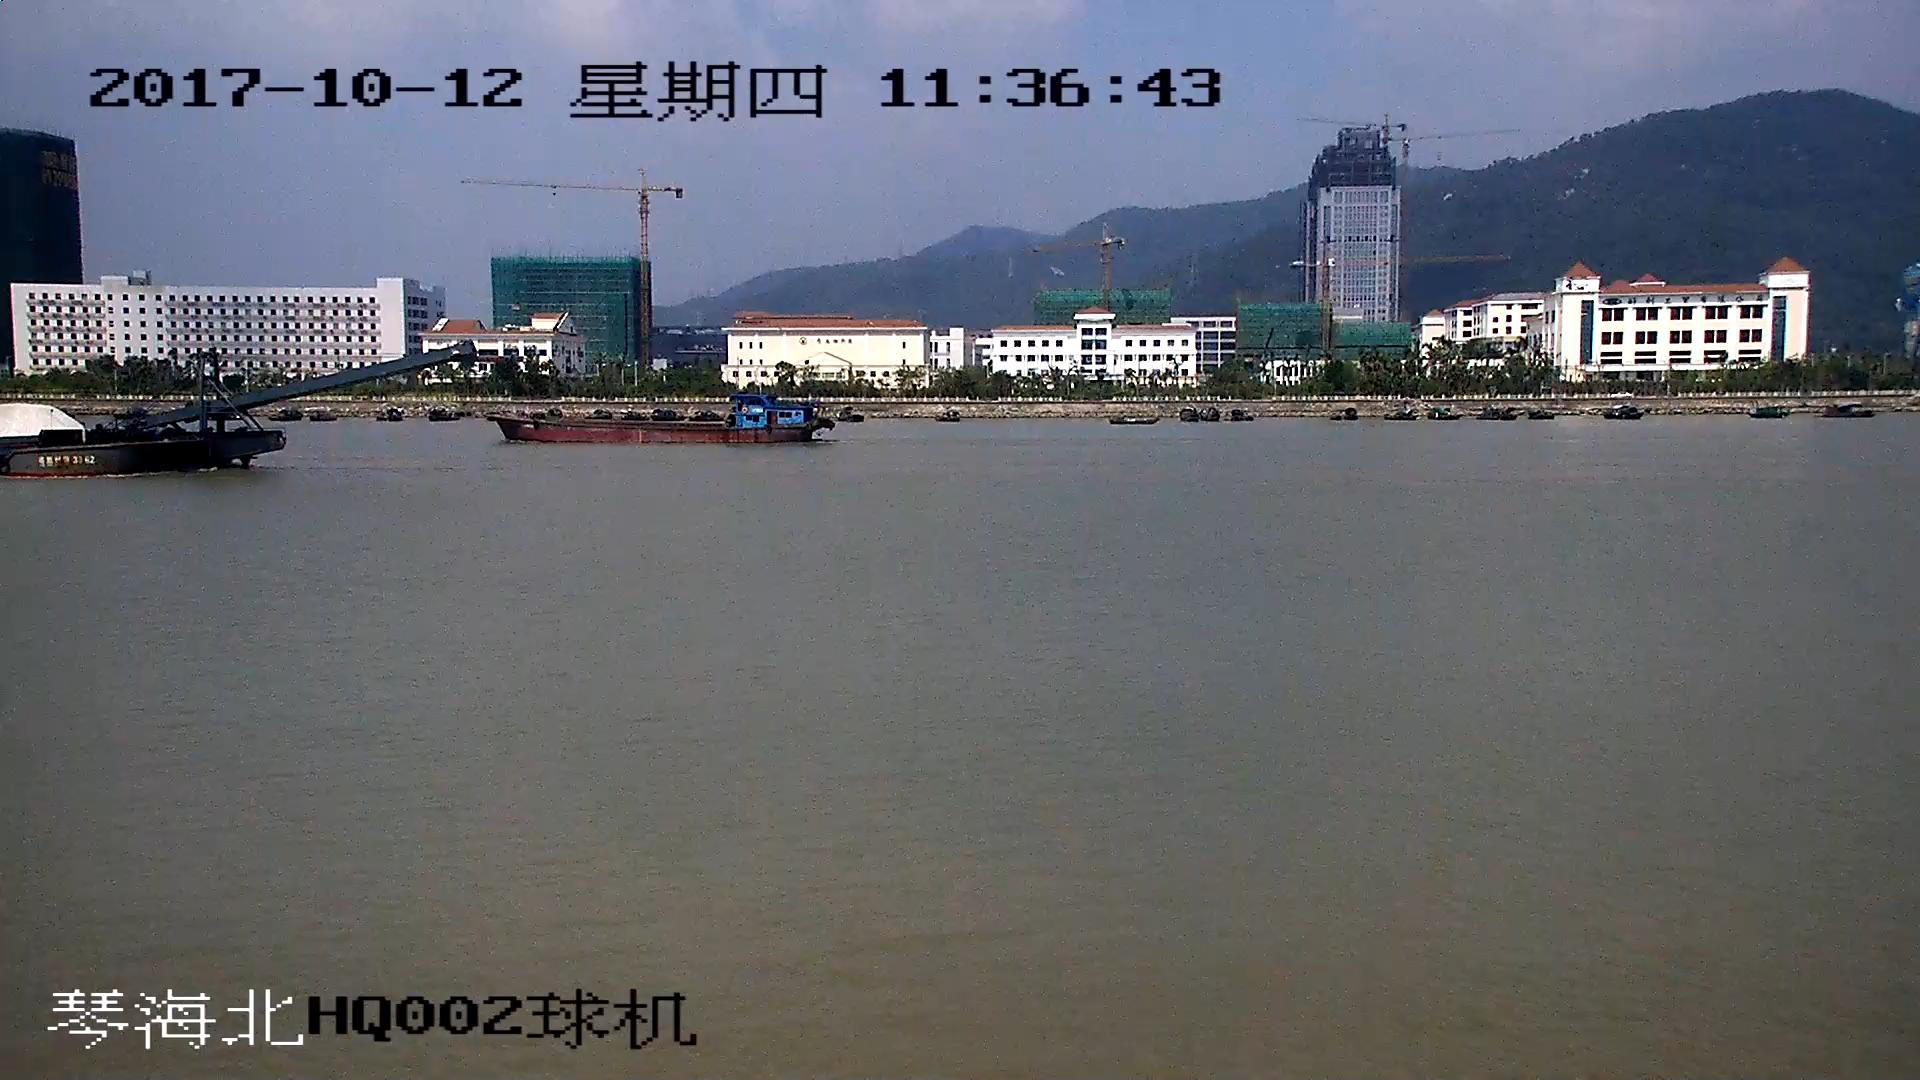bulk cargo carrier: (492, 397, 836, 447)
ore carrier: (1, 341, 467, 481)
